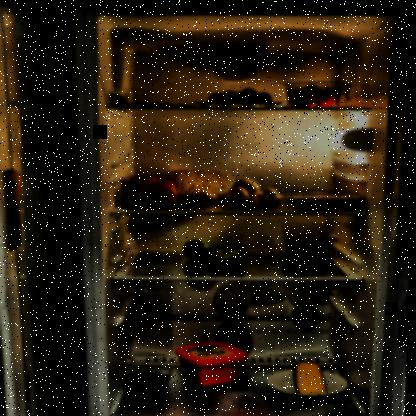apple: (181, 231, 252, 276)
blueberries: (119, 360, 180, 396)
butter: (174, 336, 250, 389)
cheese: (292, 356, 332, 393)
chicken: (283, 184, 372, 211)
chocolate: (123, 100, 173, 108)
eggs: (206, 84, 276, 107)
lime: (277, 237, 325, 268)
potato: (218, 174, 285, 210)
strawberries: (285, 79, 348, 107)
sweet_potato: (123, 171, 180, 208)
